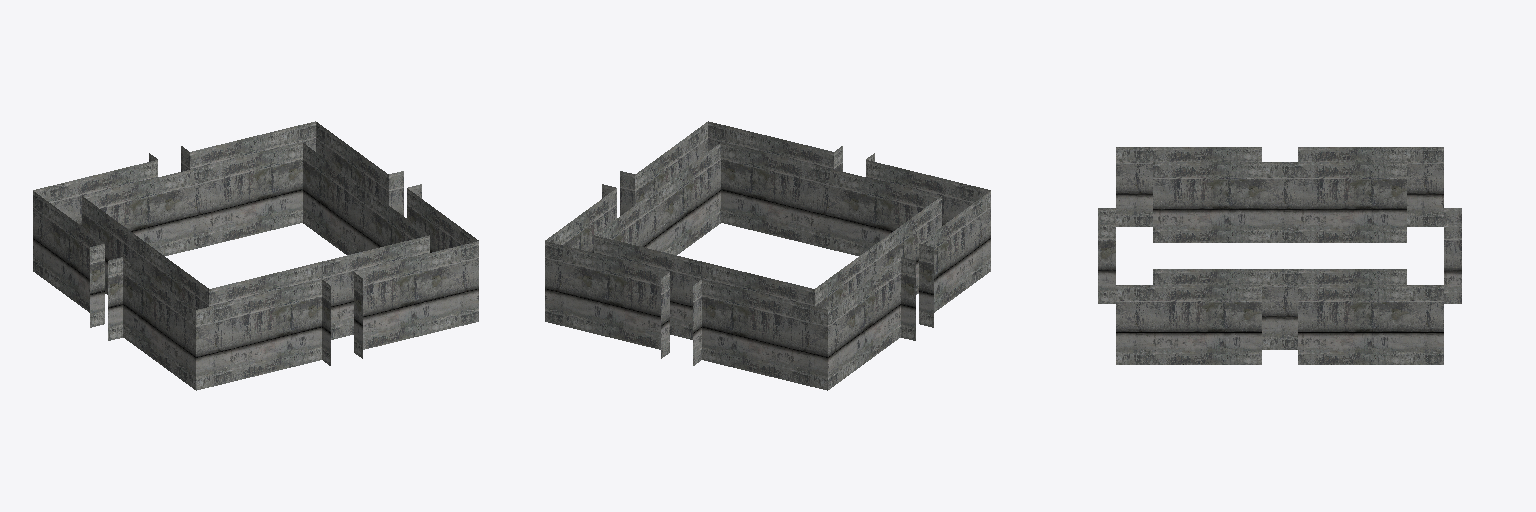
3 renders of one model, left to right at view 1: azimuth 30°, elevation 25°; view 2: azimuth 150°, elevation 25°; view 3: azimuth 270°, elevation 25°, orthographic.
Parts seen in each view (by area): view 1: Room; view 2: Room; view 3: Room.
Part boxes in pixels (x1,y1,x2,y2): Room: (33,121,478,390); Room: (545,121,990,390); Room: (1098,147,1461,364).
Size of the model in its own units: 10 by 2.45 by 10.
1 materials, 1 textured.